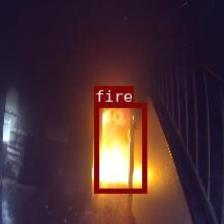fire: (93, 103, 146, 192)
